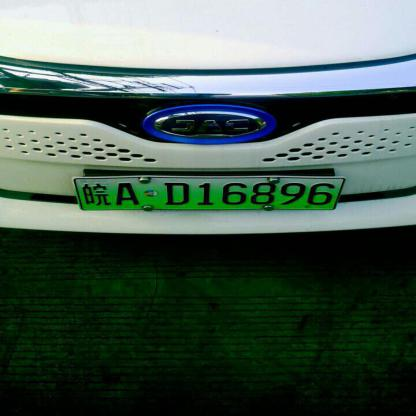lp: (75, 177, 342, 210)
